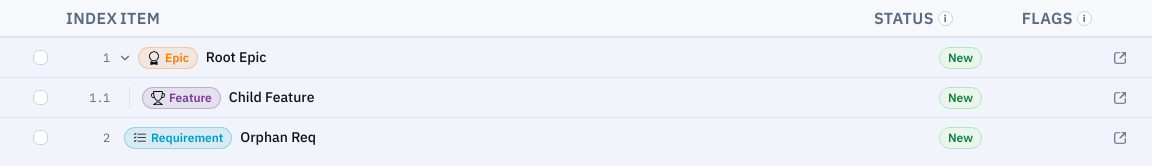
Test: DiffTree › collapses a parent node, hiding its children, and expands it back on a second click
Expected: the text "Child Feature" is shown, [229,88,314,106]
Click the button named "collapse root epic": (125, 58) [116,48,134,66]
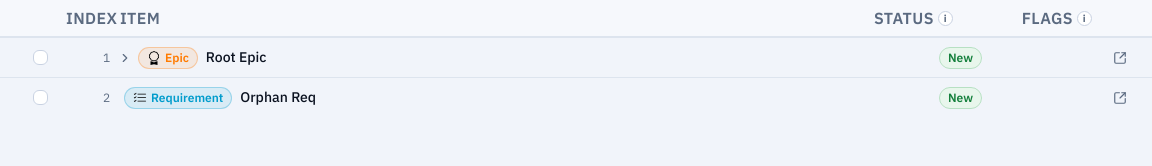
Expected: the text "Root Epic" is shown, [206,48,266,66]
Expected: the text "Child Feature" is gone
Click the button named "expand root epic": (125, 58) [116,48,134,66]
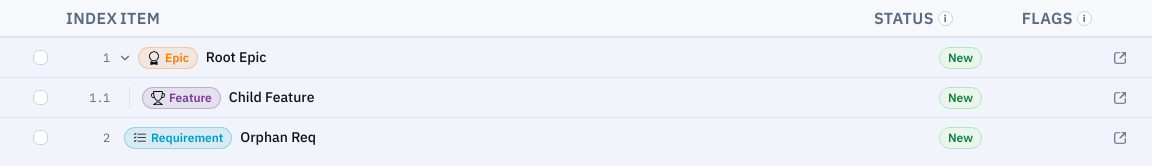
Expected: the text "Child Feature" is shown, [229,88,314,106]
